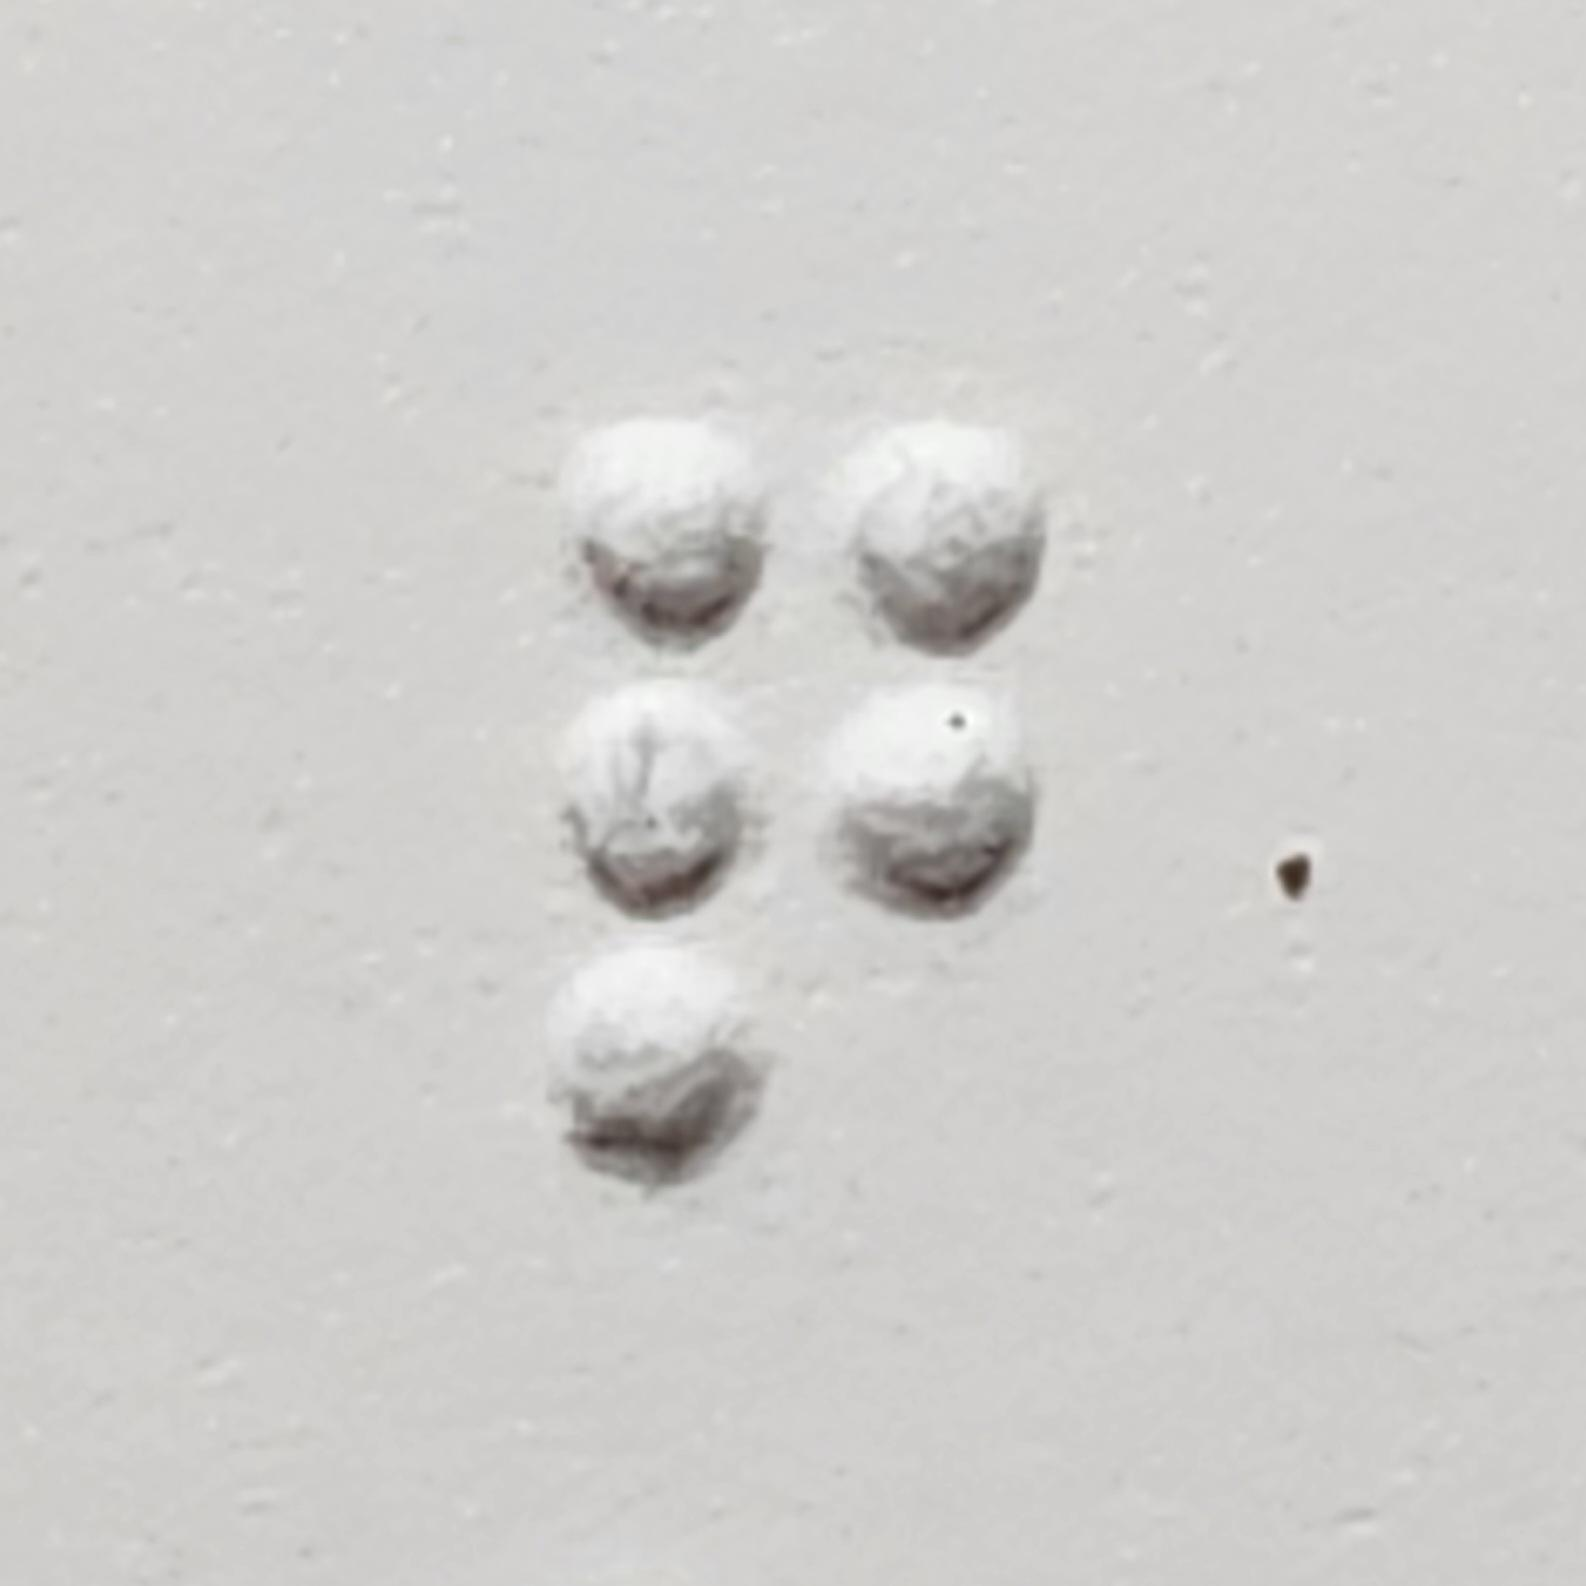letter_q: (561, 414, 1040, 1189)
